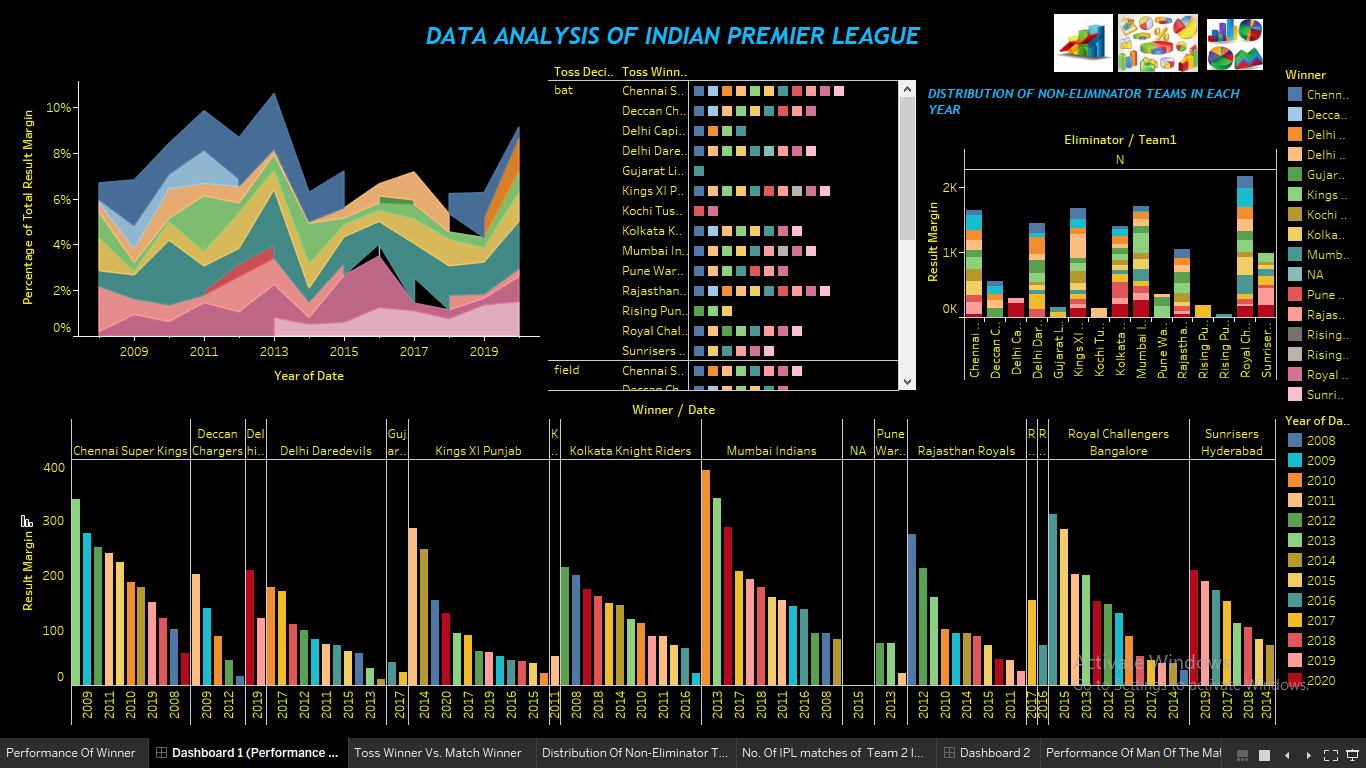

This screenshot's page, from the dashboard's own definition file:
{"tool":"tableau","page":{"name":"Dashboard 1 (Performance Of Winner Teams)","canvas":[1000,1000],"units":"permille","ordinal":0},"visuals":[{"type":"worksheet","box":[0,0,1000,1000]},{"type":"worksheet","title":"Sheet 11","mark":"Shape","box":[818.4,1.7,59.4,113.2]},{"type":"worksheet","param":"vert","box":[6.7,13.5,986.6,973]},{"type":"worksheet","box":[6.7,13.5,986.6,91.2]},{"type":"worksheet","title":"Sheet 11 (2)","mark":"Shape","box":[764,18.6,57.7,79.4]},{"type":"worksheet","param":"horz","box":[6.7,104.7,986.6,881.8]},{"type":"worksheet","box":[6.7,104.7,922.2,881.8]},{"type":"worksheet","title":"Performance Of Winner Team In Each Year","mark":"Area","rows":["result_margin"],"cols":["date"],"box":[6.7,104.7,363.9,439.8]},{"type":"worksheet","title":"Toss Winner Vs. Match Winner","mark":"Automatic","rows":["toss_decision","toss_winner"],"box":[370.6,104.7,296.8,439.8]},{"type":"worksheet","title":"Distribution Of Non-Eliminator Teams In Each Year","mark":"Bar","rows":["result_margin"],"cols":["eliminator","team1"],"box":[667.4,104.7,261.5,439.8]},{"type":"worksheet","param":"vert","box":[928.9,104.7,64.4,881.8]},{"type":"worksheet","title":"Toss Winner Vs. Match Winner","mark":"Automatic","rows":["toss_decision","toss_winner"],"param":"[federated.14qchaf0vuyj3e105ko2e114qr22].[none:winner:nk]","box":[928.9,104.7,64.4,440.9]},{"type":"worksheet","title":"Performance Of Winner","mark":"Bar","rows":["result_margin"],"cols":["winner","date"],"box":[6.7,544.5,922.2,442]},{"type":"worksheet","title":"Performance Of Winner","mark":"Bar","rows":["result_margin"],"cols":["winner","date"],"param":"[federated.14qchaf0vuyj3e105ko2e114qr22].[yr:date:ok]","box":[928.9,545.6,64.4,440.9]}]}

Visuals, with their boxes on the dashboard's canvas, which has no fixed pixel size, in thousandths of its width and height (x1, y1, x2, y2). These are canvas units, not pixel positions in the 1366x768 screenshot, which may show the page scaled, cropped or inside an application window:
worksheet: [0,0,1000,1000]
"Sheet 11" worksheet (Shape marks): [818,2,878,115]
worksheet: [7,14,993,986]
worksheet: [7,14,993,105]
"Sheet 11 (2)" worksheet (Shape marks): [764,19,822,98]
worksheet: [7,105,993,986]
worksheet: [7,105,929,986]
"Performance Of Winner Team In Each Year" worksheet (Area marks): [7,105,371,544]
"Toss Winner Vs. Match Winner" worksheet: [371,105,667,544]
"Distribution Of Non-Eliminator Teams In Each Year" worksheet (Bar marks): [667,105,929,544]
worksheet: [929,105,993,986]
"Toss Winner Vs. Match Winner" worksheet: [929,105,993,546]
"Performance Of Winner" worksheet (Bar marks): [7,544,929,986]
"Performance Of Winner" worksheet (Bar marks): [929,546,993,986]
